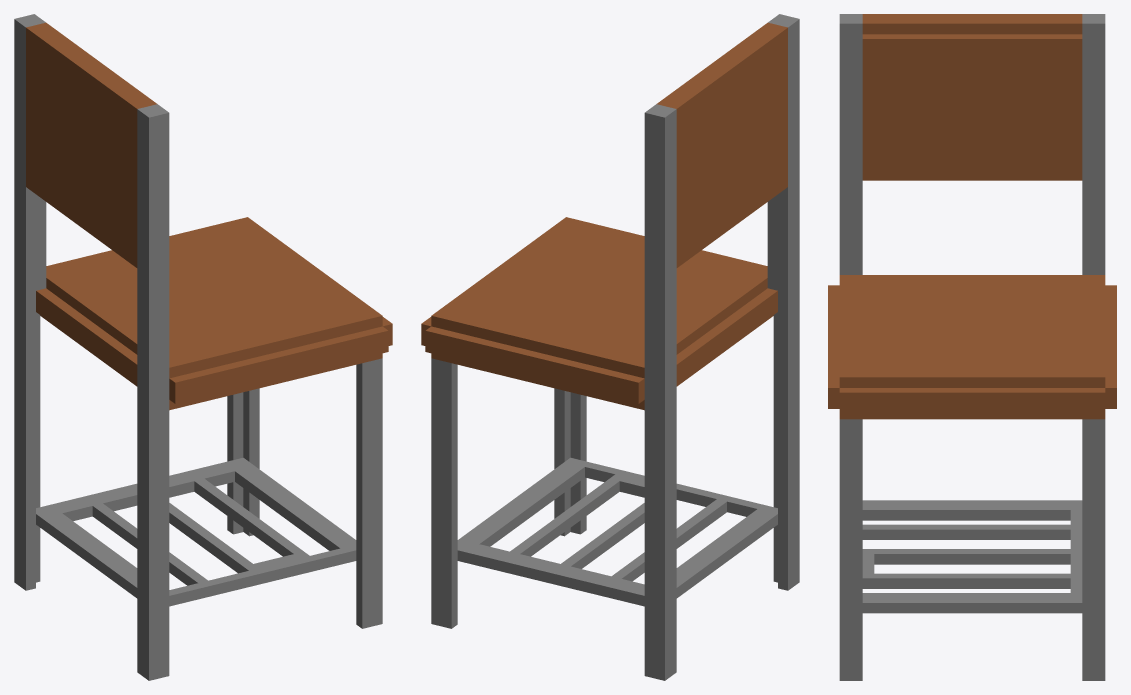
Rendered from SchoolPack-74-Student chair.obj.
3 views of the same model, side by side, from view 1: azimuth 30°, elevation 25°; view 2: azimuth 150°, elevation 25°; view 3: azimuth 270°, elevation 25° (orthographic).
Parts seen in each view (by area): view 1: Student chair; view 2: Student chair; view 3: Student chair.
Boxes of the visible parts, <box> form: Student chair: <box>14,14,392,680</box>; Student chair: <box>421,14,799,680</box>; Student chair: <box>828,14,1116,680</box>.
Bounding box in the file's own units: 2.4 × 5.3 × 2.5.
Materials: 1 (1 with a texture image).
